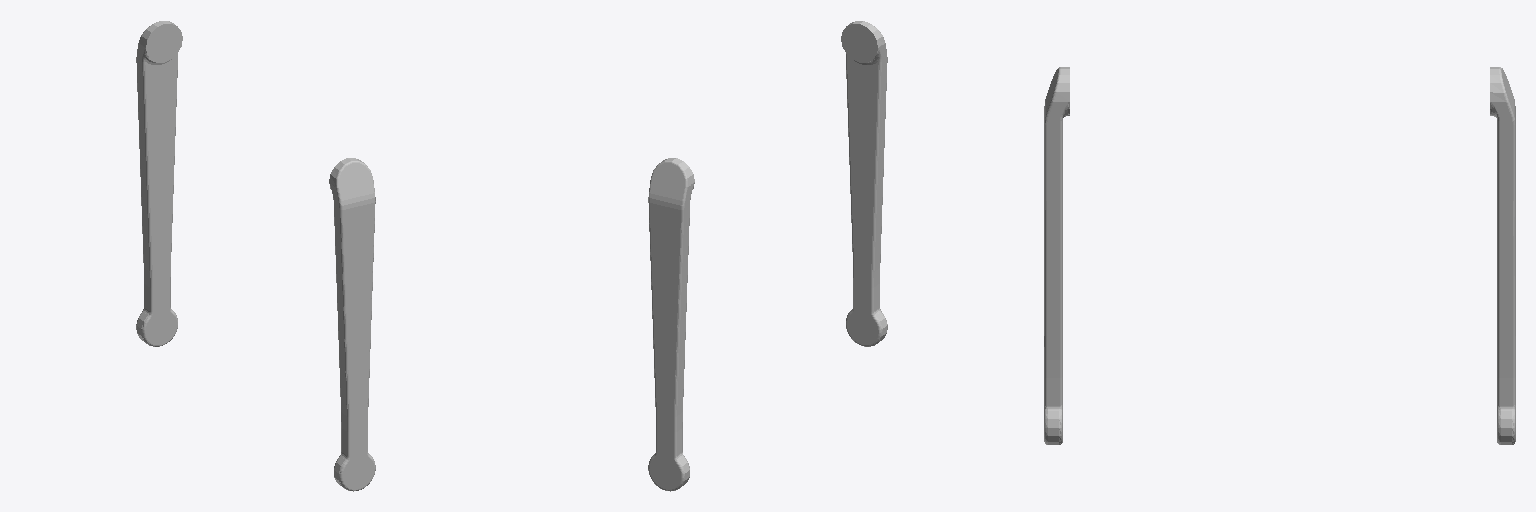
robot.urdf — bolt:
<?xml version="1.0" ?>
<!-- =================================================================================== -->
<!-- |    This document was autogenerated by xacro from /usr/local/lib/python3.9/site-packages/robot_properties_bolt/resources/xacro/bolt.urdf.xacro | -->
<!-- |    EDITING THIS FILE BY HAND IS NOT RECOMMENDED                                 | -->
<!-- =================================================================================== -->
<robot name="bolt" xmlns:controller="http://playerstage.sourceforge.net/gazebo/xmlschema/#controller" xmlns:interface="http://playerstage.sourceforge.net/gazebo/xmlschema/#interface" xmlns:sensor="http://playerstage.sourceforge.net/gazebo/xmlschema/#sensor" xmlns:xacro="http://playerstage.sourceforge.net/gazebo/xmlschema/#interface">
  <!-- This file is based on: https://atlas.is.localnet/confluence/display/AMDW/Quadruped+URDF+Files -->
  <link name="base_link">
    <!-- BASE LINK INERTIAL -->
    <inertial>
      <origin rpy="0 0 0" xyz="0 0 0"/>
      <mass value="0.61436936"/>
      <!-- The base is extremely symmetrical. -->
      <inertia ixx="0.00578574" ixy="0.0" ixz="0.0" iyy="0.01938108" iyz="0.0" izz="0.02476124"/>
    </inertial>
    <!-- BASE LINK VISUAL -->
    <visual>
      <origin rpy="0 0 0" xyz="0 0 0"/>
      <geometry>
        <mesh filename="package://example-robot-data/robots/bolt/meshes/stl/bolt_body.stl"/>
      </geometry>
      <material name="grey">
        <color rgba="0.8 0.8 0.8 1.0"/>
      </material>
    </visual>
    <!-- BASE LINK COLLISION -->
    <collision>
      <origin rpy="0 0 0" xyz="0 0 0"/>
      <geometry>
        <mesh filename="package://example-robot-data/robots/bolt/meshes/stl/bolt_body.stl"/>
      </geometry>
      <material name="grey">
        <color rgba="0.8 0.8 0.8 1.0"/>
      </material>
    </collision>
    <!-- Bullet specific paramters -->
    <contact>
      <lateral_friction value="1.0"/>
      <restitution value="0.5"/>
    </contact>
  </link>
  <!-- END BASE LINK -->
  <!--xacro:property name="base_2_HAA_x" value="${2.45656 * 0.001}" />
  <xacro:property name="base_2_HAA_y" value="${63.6 * 0.001}" />
  <xacro:property name="base_2_HAA_z" value="${33.0809 * 0.001}" /-->
  <joint name="FL_HAA" type="revolute">
    <parent link="base_link"/>
    <child link="FL_SHOULDER"/>
    <limit effort="1000" lower="-10" upper="10" velocity="1000"/>
    <!-- joints rotates around the x-axis -->
    <axis xyz="1 0 0"/>
    <origin rpy="0 0 0" xyz="0.0 0.0636 0"/>
    <!--xacro:unless value="${is_right}">
        <origin xyz="${base_2_HAA_x} ${base_2_HAA_y + 0.0007888} ${-base_2_HAA_z}" rpy="0 0 0" />
      </xacro:unless>
      <xacro:if value="${is_right}">
        <origin xyz="${base_2_HAA_x} ${-base_2_HAA_y + 0.0007888} ${-base_2_HAA_z}" rpy="0 0 0" />
      </xacro:if-->
    <!-- pybullet simulation parameters -->
    <dynamics damping="0.0" friction="0.0"/>
  </joint>
  <link name="FL_SHOULDER">
    <!-- TODO: Update inertias and add visuals for link. -->
    <!-- create a dummy shoulder link to join the two joints -->
    <inertial>
      <!-- Left upper leg inertia -->
      <mass value="0.14004265"/>
      <origin rpy="0 0 0" xyz="0.01708256 -0.00446892 -0.01095830"/>
      <inertia ixx="0.00007443" ixy="0.00000148" ixz="0.00002154" iyy="0.00013847" iyz="-0.00001096" izz="0.00009002"/>
    </inertial>
    <!-- HIP LEG LINK VISUAL -->
    <visual>
      <origin rpy="0 0 0" xyz="0 0 0"/>
      <geometry>
        <mesh filename="package://example-robot-data/robots/bolt/meshes/stl/bolt_hip_fe_left_side.stl"/>
      </geometry>
      <material name="grey">
        <color rgba="0.8 0.8 0.8 1.0"/>
      </material>
    </visual>
    <!-- UPPER LEG LINK COLLISION -->
    <collision>
      <origin rpy="0 0 0" xyz="0 0 0"/>
      <geometry>
        <mesh filename="package://example-robot-data/robots/bolt/meshes/stl/bolt_hip_fe_left_side.stl"/>
      </geometry>
      <material name="grey">
        <color rgba="0.8 0.8 0.8 1.0"/>
      </material>
    </collision>
    <!-- Bullet specific paramters -->
    <contact>
      <lateral_friction value="1.0"/>
      <restitution value="0.5"/>
    </contact>
  </link>
  <joint name="FL_HFE" type="revolute">
    <parent link="FL_SHOULDER"/>
    <child link="FL_UPPER_LEG"/>
    <limit effort="1000" lower="-10" upper="10" velocity="1000"/>
    <!-- joints rotates around the y-axis -->
    <axis xyz="0 1 0"/>
    <origin rpy="0 0 0" xyz="0 0.0145 -0.0386"/>
    <!-- pybullet simulation parameters -->
    <dynamics damping="0.0" friction="0.0"/>
  </joint>
  <link name="FL_UPPER_LEG">
    <!-- Left upper leg inertia -->
    <inertial>
      <origin rpy="0 0 0" xyz="0.00001377 0.01935853 -0.11870700"/>
      <mass value="0.14853845"/>
      <inertia ixx="0.00041107" ixy="0.00000000" ixz="0.00000009" iyy="0.00041193" iyz="-0.00004671" izz="0.00003024"/>
    </inertial>
    <!-- UPPER LEG LINK VISUAL -->
    <visual>
      <origin rpy="0 0 0" xyz="0 0 0"/>
      <geometry>
        <mesh filename="package://example-robot-data/robots/bolt/meshes/stl/upper_leg_200mm_left_side.stl"/>
      </geometry>
      <material name="grey">
        <color rgba="0.8 0.8 0.8 1.0"/>
      </material>
    </visual>
    <!-- UPPER LEG LINK COLLISION -->
    <collision>
      <origin rpy="0 0 0" xyz="0 0 0"/>
      <geometry>
        <mesh filename="package://example-robot-data/robots/bolt/meshes/stl/upper_leg_200mm_left_side.stl"/>
      </geometry>
      <material name="grey">
        <color rgba="0.8 0.8 0.8 1.0"/>
      </material>
    </collision>
    <!-- Bullet specific paramters -->
    <contact>
      <lateral_friction value="1.0"/>
      <restitution value="0.5"/>
    </contact>
  </link>
  <!-- END UPPER LEG LINK -->
  <!-- KFE: Joint between the upper leg and the lower leg -->
  <joint name="FL_KFE" type="revolute">
    <parent link="FL_UPPER_LEG"/>
    <child link="FL_LOWER_LEG"/>
    <limit effort="1000" lower="-10" upper="10" velocity="1000"/>
    <!-- joints rotates around the y-axis -->
    <axis xyz="0 1 0"/>
    <origin rpy="0 0 0" xyz="0 0.0374 -0.2"/>
    <!-- pybullet simulation parameters -->
    <dynamics damping="0.0" friction="0.0"/>
  </joint>
  <link name="FL_LOWER_LEG">
    <!-- Left lower leg inertia -->
    <inertial>
      <origin rpy="0 0 0" xyz="0.0 0.00836718 -0.11591877"/>
      <mass value="0.03117243"/>
      <inertia ixx="0.00011487" ixy="0.00000000" ixz="0.00000000" iyy="0.00011556" iyz="-0.00000190" izz="0.00000220"/>
    </inertial>
    <!-- LOWER LEG LINK VISUAL -->
    <visual>
      <origin rpy="0 0 0" xyz="0 0 0"/>
      <geometry>
        <mesh filename="package://example-robot-data/robots/bolt/meshes/stl/lower_leg_200mm_left_side.stl"/>
      </geometry>
      <material name="grey">
        <color rgba="0.8 0.8 0.8 1.0"/>
      </material>
    </visual>
    <!-- LOWER LEG LINK COLLISION -->
    <collision>
      <origin rpy="0 0 0" xyz="0 0 0"/>
      <geometry>
        <mesh filename="package://example-robot-data/robots/bolt/meshes/stl/lower_leg_200mm_left_side.stl"/>
      </geometry>
      <material name="grey">
        <color rgba="0.8 0.8 0.8 1.0"/>
      </material>
    </collision>
    <!-- Bullet specific paramters -->
    <contact>
      <lateral_friction value="1.0"/>
      <restitution value="0.5"/>
    </contact>
  </link>
  <!-- END LOWER LEG LINK -->
  <!-- KFE: Joint between the upper leg and the lower leg -->
  <joint name="FL_ANKLE" type="fixed">
    <parent link="FL_LOWER_LEG"/>
    <child link="FL_FOOT"/>
    <origin rpy="0 0 0" xyz="0 0.008 -0.2"/>
    <!-- Limits (usefull?) -->
    <limit effort="1000" lower="-10" upper="10" velocity="1000"/>
    <!-- pybullet simulation parameters -->
    <dynamics damping="0.0" friction="0.0"/>
  </joint>
  <link name="FL_FOOT">
    <!-- FOOT INERTIAL -->
    <!-- This link is symmetrical left or right -->
    <inertial>
      <origin rpy="0 0 0" xyz="0 0 0.00035767"/>
      <mass value="0.00000000"/>
      <inertia ixx="0.00000057" ixy="0.0" ixz="0.0" iyy="0.00000084" iyz="0.0" izz="0.00000053"/>
    </inertial>
    <!-- FOOT VISUAL -->
    <visual>
      <origin rpy="0 0 0" xyz="0 0 0"/>
      <geometry>
        <mesh filename="package://example-robot-data/robots/bolt/meshes/stl/bolt_foot.stl"/>
      </geometry>
      <material name="grey">
        <color rgba="0.8 0.8 0.8 1.0"/>
      </material>
    </visual>
    <!-- FOOT COLLISION -->
    <collision>
      <origin rpy="0 0 0" xyz="0 0 0"/>
      <geometry>
        <mesh filename="package://example-robot-data/robots/bolt/meshes/stl/bolt_foot.stl"/>
      </geometry>
      <material name="grey">
        <color rgba="0.8 0.8 0.8 1.0"/>
      </material>
    </collision>
    <!-- Bullet specific paramters -->
    <contact>
      <lateral_friction value="4.0"/>
      <restitution value="0.0"/>
    </contact>
  </link>
  <!-- END LOWER LEG LINK -->
  <joint name="FR_HAA" type="revolute">
    <parent link="base_link"/>
    <child link="FR_SHOULDER"/>
    <limit effort="1000" lower="-10" upper="10" velocity="1000"/>
    <!-- joints rotates around the x-axis -->
    <axis xyz="1 0 0"/>
    <origin rpy="0 0 0" xyz="0.0 -0.0636 0"/>
    <!--xacro:unless value="${is_right}">
        <origin xyz="${base_2_HAA_x} ${base_2_HAA_y + 0.0007888} ${-base_2_HAA_z}" rpy="0 0 0" />
      </xacro:unless>
      <xacro:if value="${is_right}">
        <origin xyz="${base_2_HAA_x} ${-base_2_HAA_y + 0.0007888} ${-base_2_HAA_z}" rpy="0 0 0" />
      </xacro:if-->
    <!-- pybullet simulation parameters -->
    <dynamics damping="0.0" friction="0.0"/>
  </joint>
  <link name="FR_SHOULDER">
    <!-- TODO: Update inertias and add visuals for link. -->
    <!-- create a dummy shoulder link to join the two joints -->
    <inertial>
      <!-- Right upper leg inertia -->
      <mass value="0.14004412"/>
      <origin rpy="0 0 0" xyz="0.01708233 0.00447099 -0.01095846"/>
      <inertia ixx="0.00007442" ixy="-0.00000148" ixz="0.00002154" iyy="0.00013848" iyz="0.00001095" izz="0.00009001"/>
    </inertial>
    <!-- HIP LEG LINK VISUAL -->
    <visual>
      <origin rpy="0 0 0" xyz="0 0 0"/>
      <geometry>
        <mesh filename="package://example-robot-data/robots/bolt/meshes/stl/bolt_hip_fe_right_side.stl"/>
      </geometry>
      <material name="grey">
        <color rgba="0.8 0.8 0.8 1.0"/>
      </material>
    </visual>
    <!-- UPPER LEG LINK COLLISION -->
    <collision>
      <origin rpy="0 0 0" xyz="0 0 0"/>
      <geometry>
        <mesh filename="package://example-robot-data/robots/bolt/meshes/stl/bolt_hip_fe_right_side.stl"/>
      </geometry>
      <material name="grey">
        <color rgba="0.8 0.8 0.8 1.0"/>
      </material>
    </collision>
    <!-- Bullet specific paramters -->
    <contact>
      <lateral_friction value="1.0"/>
      <restitution value="0.5"/>
    </contact>
  </link>
  <joint name="FR_HFE" type="revolute">
    <parent link="FR_SHOULDER"/>
    <child link="FR_UPPER_LEG"/>
    <limit effort="1000" lower="-10" upper="10" velocity="1000"/>
    <!-- joints rotates around the y-axis -->
    <axis xyz="0 1 0"/>
    <origin rpy="0 0 0" xyz="0 -0.0145 -0.0386"/>
    <!-- pybullet simulation parameters -->
    <dynamics damping="0.0" friction="0.0"/>
  </joint>
  <link name="FR_UPPER_LEG">
    <!-- Right upper leg inertia -->
    <inertial>
      <origin rpy="0 0 0" xyz="-0.00001377 -0.01935853 -0.11870700"/>
      <mass value="0.14853845"/>
      <inertia ixx="0.00041107" ixy="0.00000000" ixz="-0.00000009" iyy="0.00041193" iyz="0.00004671" izz="0.00003024"/>
    </inertial>
    <!-- UPPER LEG LINK VISUAL -->
    <visual>
      <origin rpy="0 0 0" xyz="0 0 0"/>
      <geometry>
        <mesh filename="package://example-robot-data/robots/bolt/meshes/stl/upper_leg_200mm_right_side.stl"/>
      </geometry>
      <material name="grey">
        <color rgba="0.8 0.8 0.8 1.0"/>
      </material>
    </visual>
    <!-- UPPER LEG LINK COLLISION -->
    <collision>
      <origin rpy="0 0 0" xyz="0 0 0"/>
      <geometry>
        <mesh filename="package://example-robot-data/robots/bolt/meshes/stl/upper_leg_200mm_right_side.stl"/>
      </geometry>
      <material name="grey">
        <color rgba="0.8 0.8 0.8 1.0"/>
      </material>
    </collision>
    <!-- Bullet specific paramters -->
    <contact>
      <lateral_friction value="1.0"/>
      <restitution value="0.5"/>
    </contact>
  </link>
  <!-- END UPPER LEG LINK -->
  <!-- KFE: Joint between the upper leg and the lower leg -->
  <joint name="FR_KFE" type="revolute">
    <parent link="FR_UPPER_LEG"/>
    <child link="FR_LOWER_LEG"/>
    <limit effort="1000" lower="-10" upper="10" velocity="1000"/>
    <!-- joints rotates around the y-axis -->
    <axis xyz="0 1 0"/>
    <origin rpy="0 0 0" xyz="0 -0.0374 -0.2"/>
    <!-- pybullet simulation parameters -->
    <dynamics damping="0.0" friction="0.0"/>
  </joint>
  <link name="FR_LOWER_LEG">
    <!-- Right lower leg inertia -->
    <inertial>
      <origin rpy="0 0 0" xyz="0.0 -0.00836718 -0.11591877"/>
      <mass value="0.03117243"/>
      <inertia ixx="0.00011487" ixy="0.00000000" ixz="0.00000000" iyy="0.00011556" iyz="0.00000190" izz="0.00000220"/>
    </inertial>
    <!-- LOWER LEG LINK VISUAL -->
    <visual>
      <origin rpy="0 0 0" xyz="0 0 0"/>
      <geometry>
        <mesh filename="package://example-robot-data/robots/bolt/meshes/stl/lower_leg_200mm_right_side.stl"/>
      </geometry>
      <material name="grey">
        <color rgba="0.8 0.8 0.8 1.0"/>
      </material>
    </visual>
    <!-- LOWER LEG LINK COLLISION -->
    <collision>
      <origin rpy="0 0 0" xyz="0 0 0"/>
      <geometry>
        <mesh filename="package://example-robot-data/robots/bolt/meshes/stl/lower_leg_200mm_right_side.stl"/>
      </geometry>
      <material name="grey">
        <color rgba="0.8 0.8 0.8 1.0"/>
      </material>
    </collision>
    <!-- Bullet specific paramters -->
    <contact>
      <lateral_friction value="1.0"/>
      <restitution value="0.5"/>
    </contact>
  </link>
  <!-- END LOWER LEG LINK -->
  <!-- KFE: Joint between the upper leg and the lower leg -->
  <joint name="FR_ANKLE" type="fixed">
    <parent link="FR_LOWER_LEG"/>
    <child link="FR_FOOT"/>
    <origin rpy="0 0 0" xyz="0 -0.008 -0.2"/>
    <!-- Limits (usefull?) -->
    <limit effort="1000" lower="-10" upper="10" velocity="1000"/>
    <!-- pybullet simulation parameters -->
    <dynamics damping="0.0" friction="0.0"/>
  </joint>
  <link name="FR_FOOT">
    <!-- FOOT INERTIAL -->
    <!-- This link is symmetrical left or right -->
    <inertial>
      <origin rpy="0 0 0" xyz="0 0 0.00035767"/>
      <mass value="0.00000000"/>
      <inertia ixx="0.00000057" ixy="0.0" ixz="0.0" iyy="0.00000084" iyz="0.0" izz="0.00000053"/>
    </inertial>
    <!-- FOOT VISUAL -->
    <visual>
      <origin rpy="0 0 0" xyz="0 0 0"/>
      <geometry>
        <mesh filename="package://example-robot-data/robots/bolt/meshes/stl/bolt_foot.stl"/>
      </geometry>
      <material name="grey">
        <color rgba="0.8 0.8 0.8 1.0"/>
      </material>
    </visual>
    <!-- FOOT COLLISION -->
    <collision>
      <origin rpy="0 0 0" xyz="0 0 0"/>
      <geometry>
        <mesh filename="package://example-robot-data/robots/bolt/meshes/stl/bolt_foot.stl"/>
      </geometry>
      <material name="grey">
        <color rgba="0.8 0.8 0.8 1.0"/>
      </material>
    </collision>
    <!-- Bullet specific paramters -->
    <contact>
      <lateral_friction value="4.0"/>
      <restitution value="0.0"/>
    </contact>
  </link>
  <!-- END LOWER LEG LINK -->
</robot>

--- What the picture shows (computed from the rendered views, not written in the file) ---
Views: 3 orthographic renders of the robot side by side, from view 1: azimuth 30°, elevation 25°; view 2: azimuth 150°, elevation 25°; view 3: azimuth 270°, elevation 25°.
Model bolt with 9 links and 8 joints (6 revolute, 2 fixed), rooted at base_link, posed every joint at zero.
Visible links, largest first — view 1: FR_LOWER_LEG, FL_LOWER_LEG; view 2: FL_LOWER_LEG, FR_LOWER_LEG; view 3: FL_LOWER_LEG, FR_LOWER_LEG.
Link boxes in pixels (<box>): FR_LOWER_LEG: <box>329,158,375,491</box>; FL_LOWER_LEG: <box>136,21,182,346</box>; FL_LOWER_LEG: <box>648,158,694,491</box>; FR_LOWER_LEG: <box>841,21,887,346</box>; FL_LOWER_LEG: <box>1490,67,1515,444</box>; FR_LOWER_LEG: <box>1044,67,1069,444</box>.
Bounding box of the posed robot: 0.027 × 0.259 × 0.2268 m (x, y, z).
Meshes: 8 distinct files referenced, 2 mesh visuals loaded (2 binary STL); not drawn: 7 (reference not matched to a file when rendering).